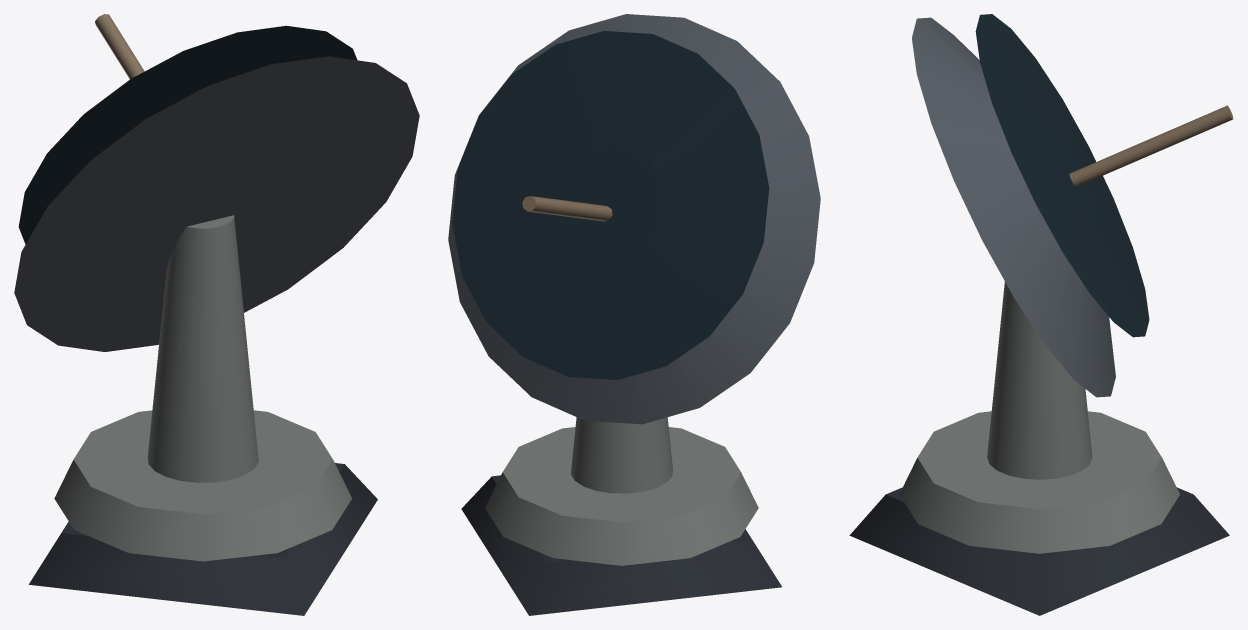
The model's file is compact_high_gravity--sensor_array.glb.
The picture shows the model from 3 angles, left to right: view 1: azimuth 30°, elevation 25°; view 2: azimuth 150°, elevation 25°; view 3: azimuth 270°, elevation 25°; orthographic projection. The views are drawn at different scales.
Parts seen in each view (by area): view 1: sensor_dish_4, rotation_bearing_2, sensor_mast_3, mount_adapter_1, array_face_5, receiver_6; view 2: array_face_5, sensor_dish_4, rotation_bearing_2, mount_adapter_1, sensor_mast_3, receiver_6; view 3: rotation_bearing_2, sensor_dish_4, array_face_5, mount_adapter_1, sensor_mast_3, receiver_6.
Boxes of the visible parts, <box> form: sensor_dish_4: <box>14,56,419,351</box>; rotation_bearing_2: <box>54,410,351,561</box>; sensor_mast_3: <box>147,215,258,482</box>; mount_adapter_1: <box>29,463,377,615</box>; array_face_5: <box>18,25,357,244</box>; receiver_6: <box>95,14,144,79</box>; array_face_5: <box>452,31,769,379</box>; sensor_dish_4: <box>448,14,820,424</box>; rotation_bearing_2: <box>485,427,758,565</box>; mount_adapter_1: <box>461,475,781,615</box>; sensor_mast_3: <box>571,417,672,493</box>; receiver_6: <box>522,196,612,221</box>; rotation_bearing_2: <box>899,411,1179,553</box>; sensor_dish_4: <box>912,17,1115,397</box>; array_face_5: <box>975,14,1149,337</box>; mount_adapter_1: <box>849,487,1229,615</box>; sensor_mast_3: <box>987,282,1092,479</box>; receiver_6: <box>1069,105,1233,186</box>.
Size of the model in its own units: 11.28 by 14.73 by 10.17.
